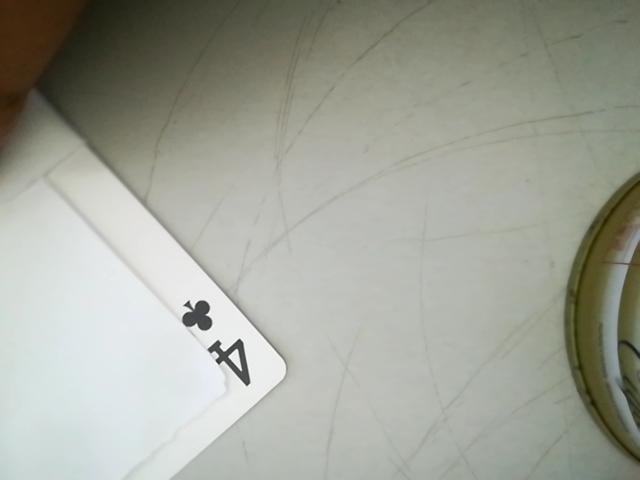mh 4: (163, 286, 270, 392)
